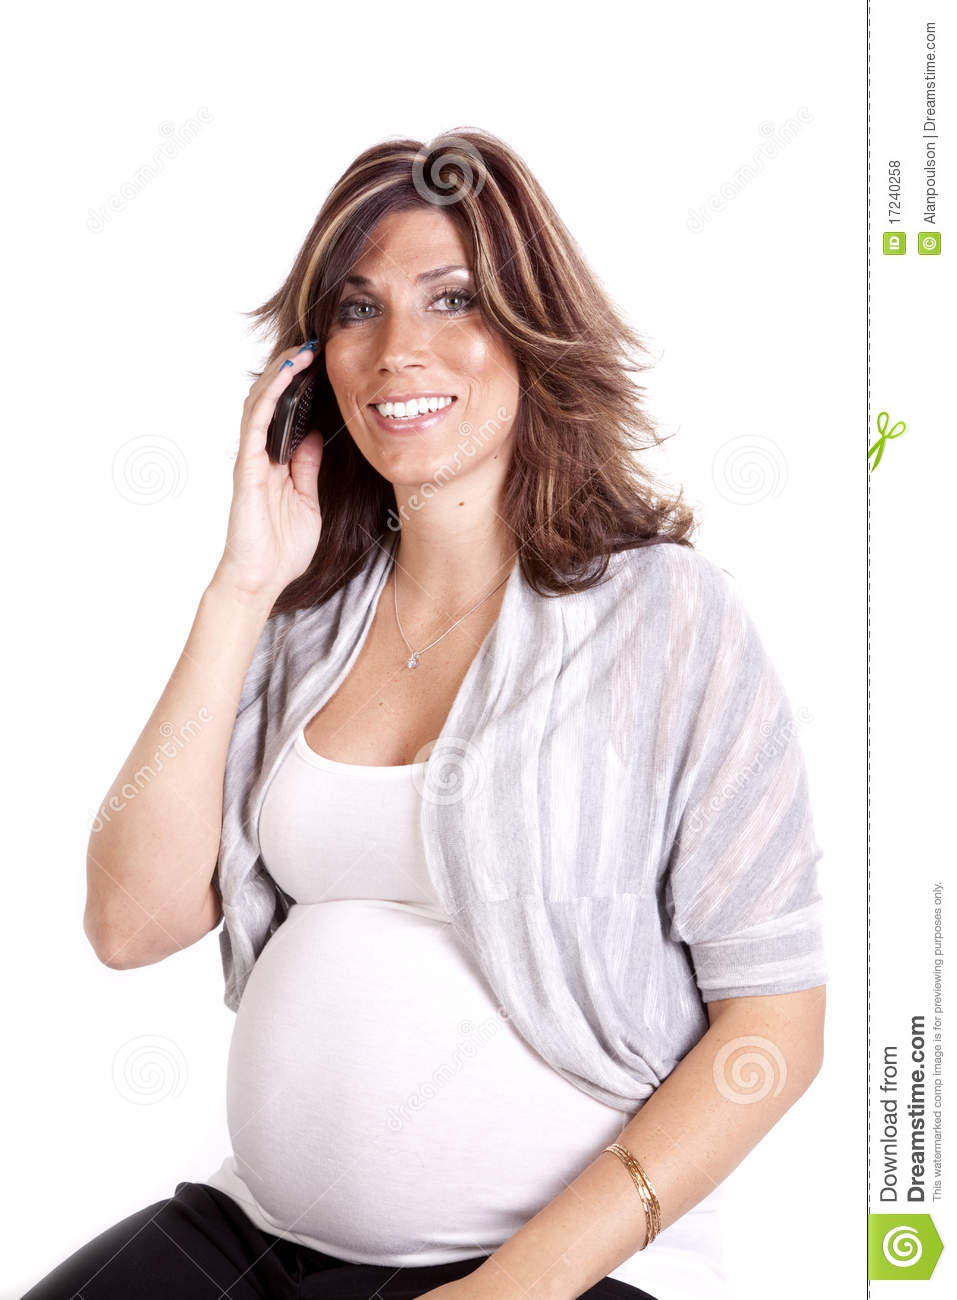talk: (201, 265, 504, 610)
